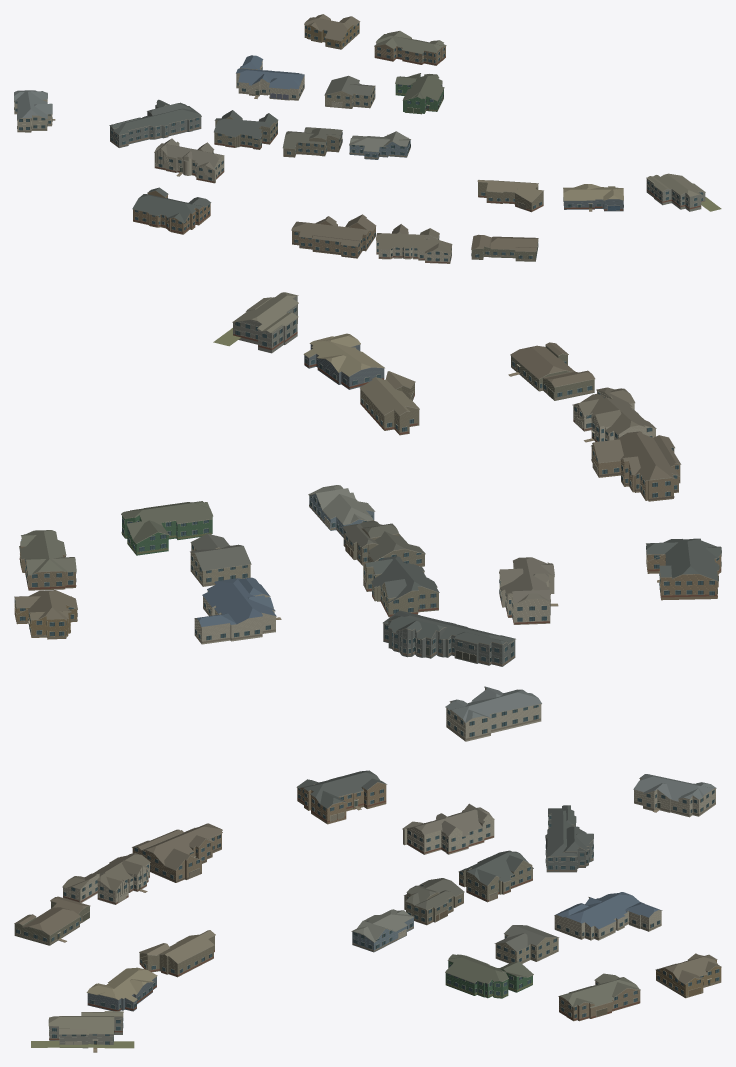
File: site.glb
The picture shows the model from 3 angles, top to bottom: view 1: azimuth 30°, elevation 25°; view 2: azimuth 150°, elevation 25°; view 3: azimuth 270°, elevation 25°; orthographic projection. The views are drawn at different scales.
Parts seen in each view (by area): view 1: roof-225f3785, roof-16ba7b22, roof-3983b858, roof-c275cd2e, roof-ac2b7004, roof-32dc5f55, roof-96194776, roof-dd7341f6, roof-b795f512, roof-217e45f5, roof-07337768, roof-3855d470 (+6 smaller); view 2: roof-16ba7b22, roof-225f3785, roof-32dc5f55, roof-3983b858, roof-7c7127f8, roof-b795f512, roof-96194776, roof-ac2b7004, roof-3855d470, roof-c275cd2e, roof-108ba5fd, roof-dd7341f6 (+6 smaller); view 3: roof-32dc5f55, roof-225f3785, roof-3983b858, roof-ac2b7004, roof-c275cd2e, roof-b795f512, roof-7c7127f8, roof-16ba7b22, roof-dd7341f6, roof-96194776, roof-07337768, roof-217e45f5 (+7 smaller).
Part boxes in pixels (x1,y1,x2,y2): roof-225f3785: (291,214,376,258); roof-16ba7b22: (109,99,201,147); roof-3983b858: (132,187,211,234); roof-c275cd2e: (376,224,452,263); roof-ac2b7004: (154,138,224,183); roof-32dc5f55: (236,55,304,100); roof-96194776: (214,110,278,149); roof-dd7341f6: (374,31,446,65); roof-b795f512: (395,73,444,114); roof-217e45f5: (646,173,705,211); roof-07337768: (477,180,543,212); roof-3855d470: (471,234,538,261); roof-16ba7b22: (383,610,515,666); roof-225f3785: (591,431,681,501); roof-32dc5f55: (194,577,276,644); roof-3983b858: (646,538,721,600); roof-7c7127f8: (445,686,541,741); roof-b795f512: (121,501,213,555); roof-96194776: (362,556,439,617); roof-ac2b7004: (499,557,554,624); roof-3855d470: (510,342,595,400); roof-c275cd2e: (572,387,656,441); roof-108ba5fd: (303,333,384,389); roof-dd7341f6: (19,530,76,590); roof-32dc5f55: (554,892,662,940); roof-225f3785: (132,823,222,882); roof-3983b858: (296,770,387,824); roof-ac2b7004: (402,803,494,854); roof-c275cd2e: (62,853,150,904); roof-b795f512: (445,954,533,998); roof-7c7127f8: (633,774,716,817); roof-16ba7b22: (545,805,593,872); roof-dd7341f6: (558,973,640,1021); roof-96194776: (458,850,533,902); roof-07337768: (139,930,215,977); roof-217e45f5: (48,1011,123,1048).
Size of the model in its own units: 213 by 10.07 by 240.
